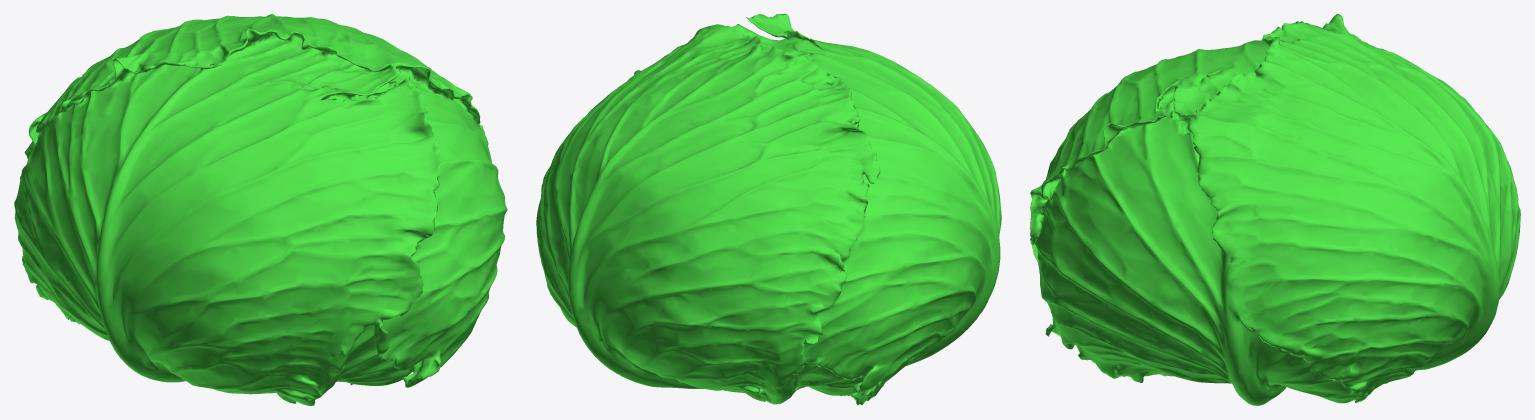
File: Cabbge.fbx
3 renders of one model, left to right at view 1: azimuth 30°, elevation 25°; view 2: azimuth 150°, elevation 25°; view 3: azimuth 270°, elevation 25°, orthographic. The views are drawn at different scales.
Parts seen in each view (by area): view 1: model; view 2: model; view 3: model.
Boxes of the visible parts, box(x1,y1,x2,y2) form: model: box(14, 14, 507, 405); model: box(536, 14, 1001, 405); model: box(1030, 14, 1520, 405).
Bounding box in the file's own units: 17.13 × 12.87 × 17.93.
